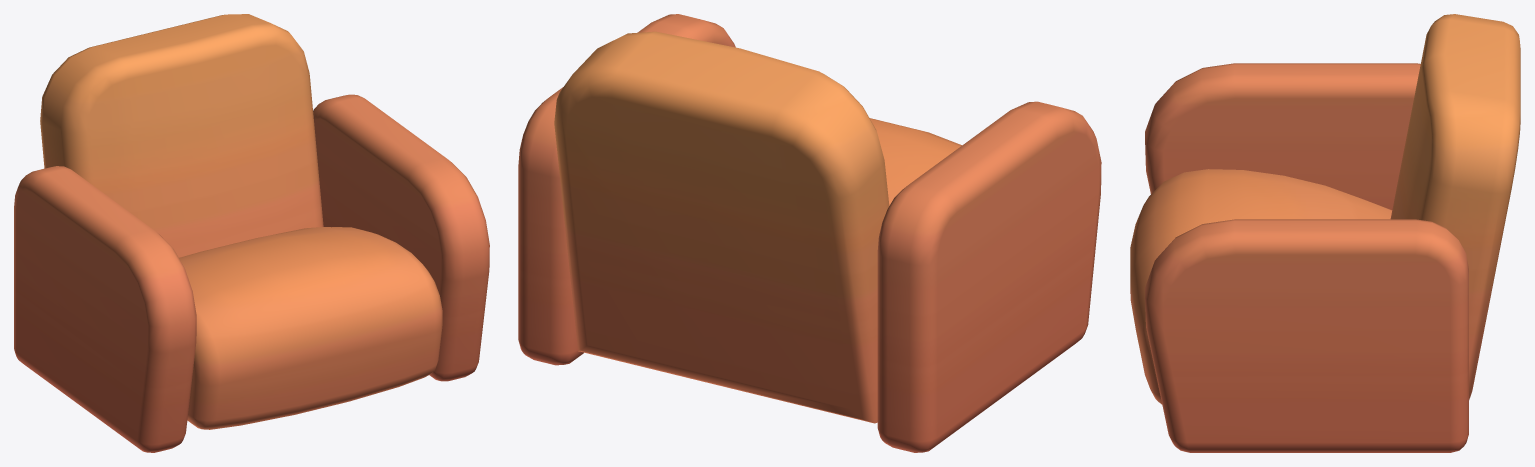
File: Armchair_20.glb
3 views of the same model, side by side, from view 1: azimuth 30°, elevation 25°; view 2: azimuth 150°, elevation 25°; view 3: azimuth 270°, elevation 25° (orthographic). The views are drawn at different scales.
Visible parts, largest first — view 1: Armchair_20; view 2: Armchair_20; view 3: Armchair_20.
Boxes of the visible parts, left/top/right/bottom form: Armchair_20: left=14, top=14, right=489, bottom=452; Armchair_20: left=518, top=14, right=1101, bottom=452; Armchair_20: left=1130, top=14, right=1520, bottom=452.
Bounding box in the file's own units: 1.05 × 0.8512 × 0.9618.
1 material, 1 textured.
